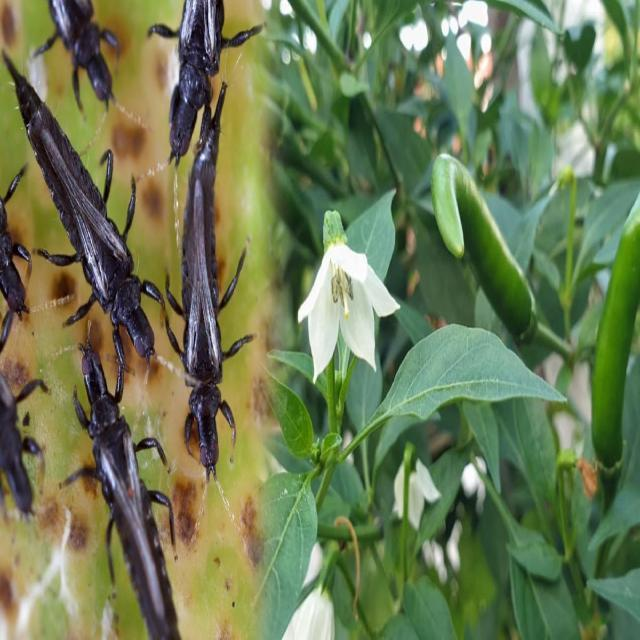Thrips: (7, 38, 150, 379), (144, 72, 257, 498), (65, 336, 190, 640), (118, 1, 236, 160), (9, 1, 137, 111), (1, 351, 53, 541)
